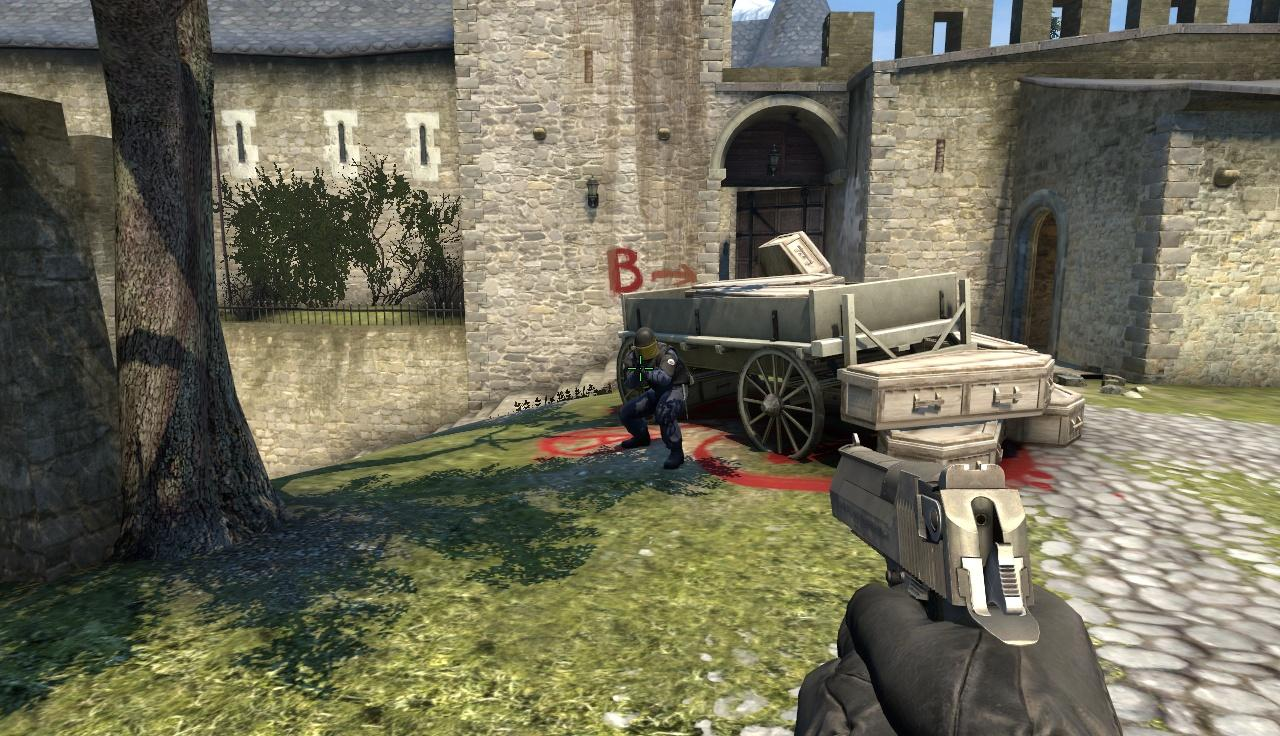ct: (627, 329, 687, 469)
cthead: (634, 328, 659, 358)
pistol: (820, 439, 1119, 733)
